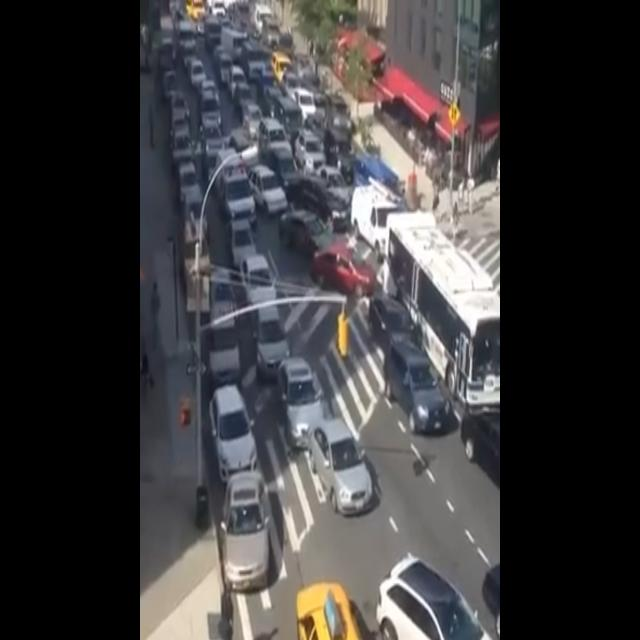Ambulance: (214, 140, 263, 231)
